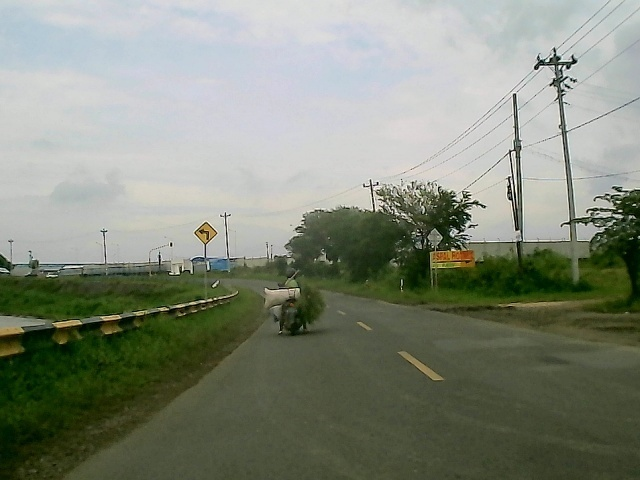Tikungan tajam ke kiri: (191, 219, 219, 246)
